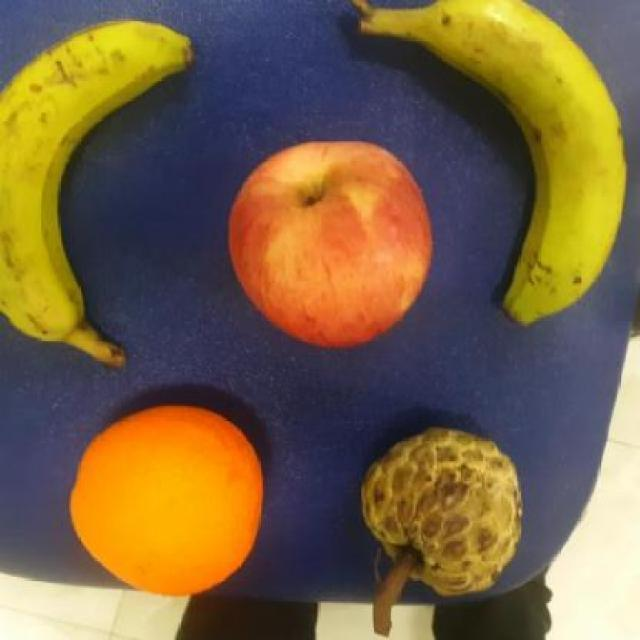apple: (219, 135, 439, 355)
banana: (0, 20, 202, 355), (429, 1, 634, 327)
oren: (63, 390, 266, 593)
sugar apple: (362, 418, 541, 600)
